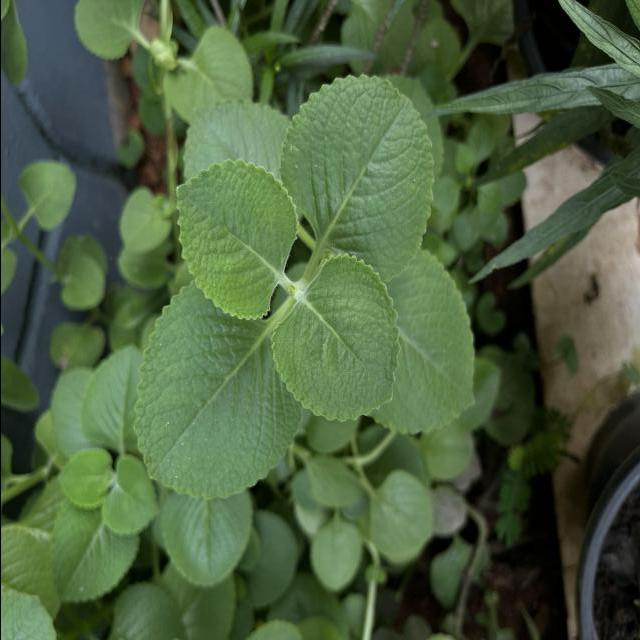Plectranthus barbatus: (130, 278, 303, 501), (277, 72, 435, 286), (268, 252, 401, 424), (172, 158, 298, 322), (382, 248, 476, 434), (158, 494, 254, 588)
